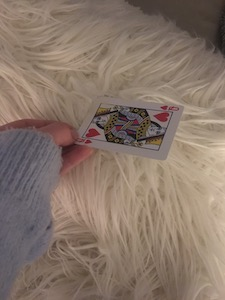QueenOfHearts: (68, 93, 187, 162)
